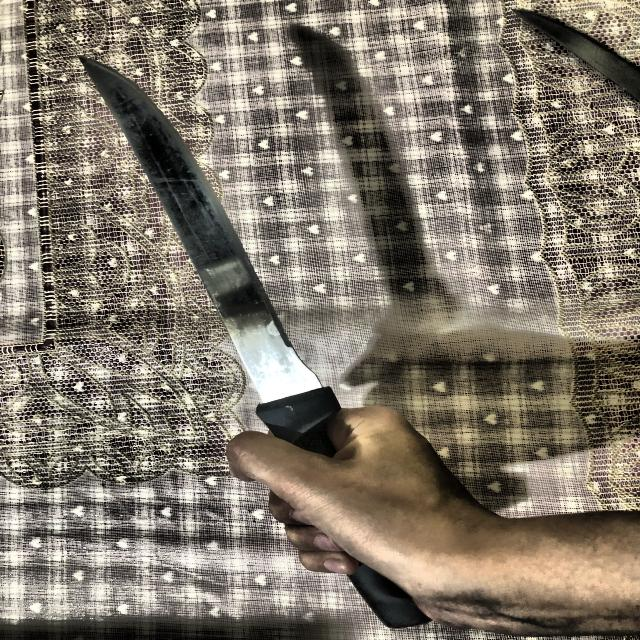knife: (78, 58, 431, 630)
